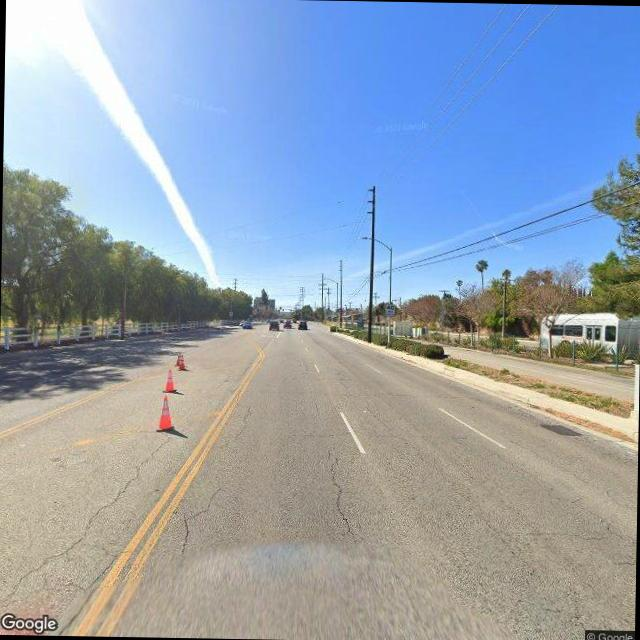crack: (0, 430, 167, 600), (175, 481, 224, 556), (321, 445, 358, 542), (230, 401, 252, 442)
